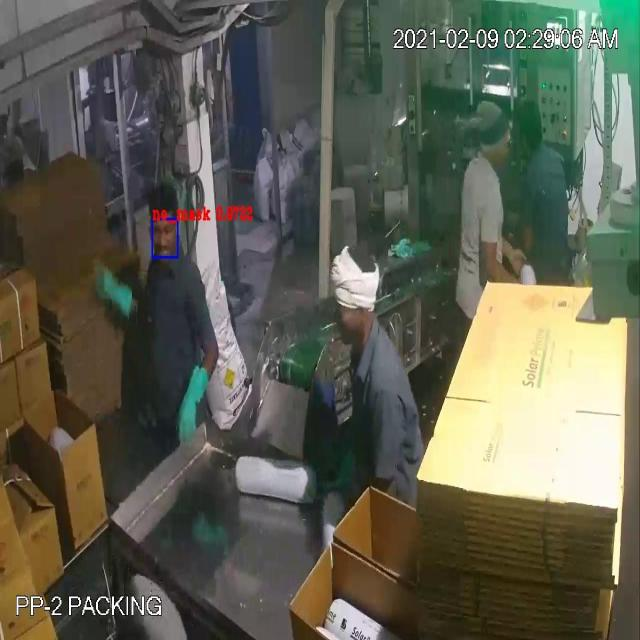gloves: (166, 349, 213, 444), (86, 257, 136, 322)
no-gloves: (477, 231, 533, 301)
